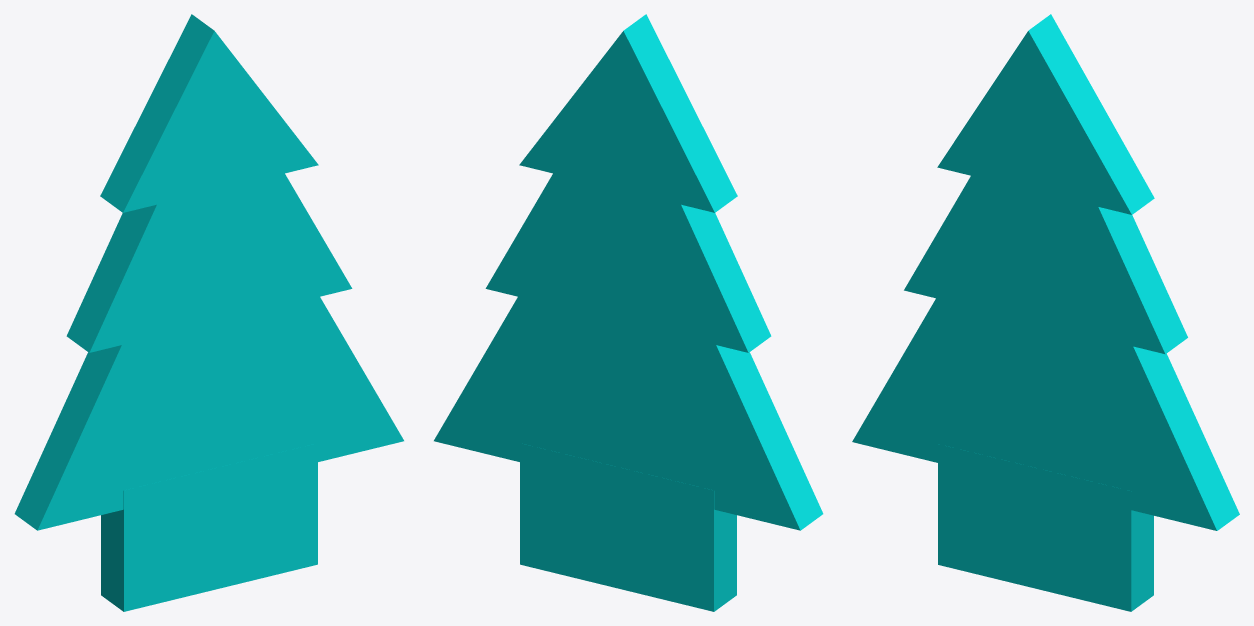
The model's file is SM_Prop_Tree_Cookie_Small_01_Collision.fbx.
The picture shows the model from 3 angles, left to right: view 1: azimuth 30°, elevation 25°; view 2: azimuth 150°, elevation 25°; view 3: azimuth 330°, elevation 25°; orthographic projection.
Parts seen in each view (by area): view 1: SM_Prop_Tree_Cookie_Small_01_Collision; view 2: SM_Prop_Tree_Cookie_Small_01_Collision; view 3: SM_Prop_Tree_Cookie_Small_01_Collision.
Part boxes in pixels (x1,y1,x2,y2): SM_Prop_Tree_Cookie_Small_01_Collision: (14,14,403,611); SM_Prop_Tree_Cookie_Small_01_Collision: (434,14,823,611); SM_Prop_Tree_Cookie_Small_01_Collision: (852,14,1239,611).
Size of the model in its own units: 298 by 433 by 32.28.
